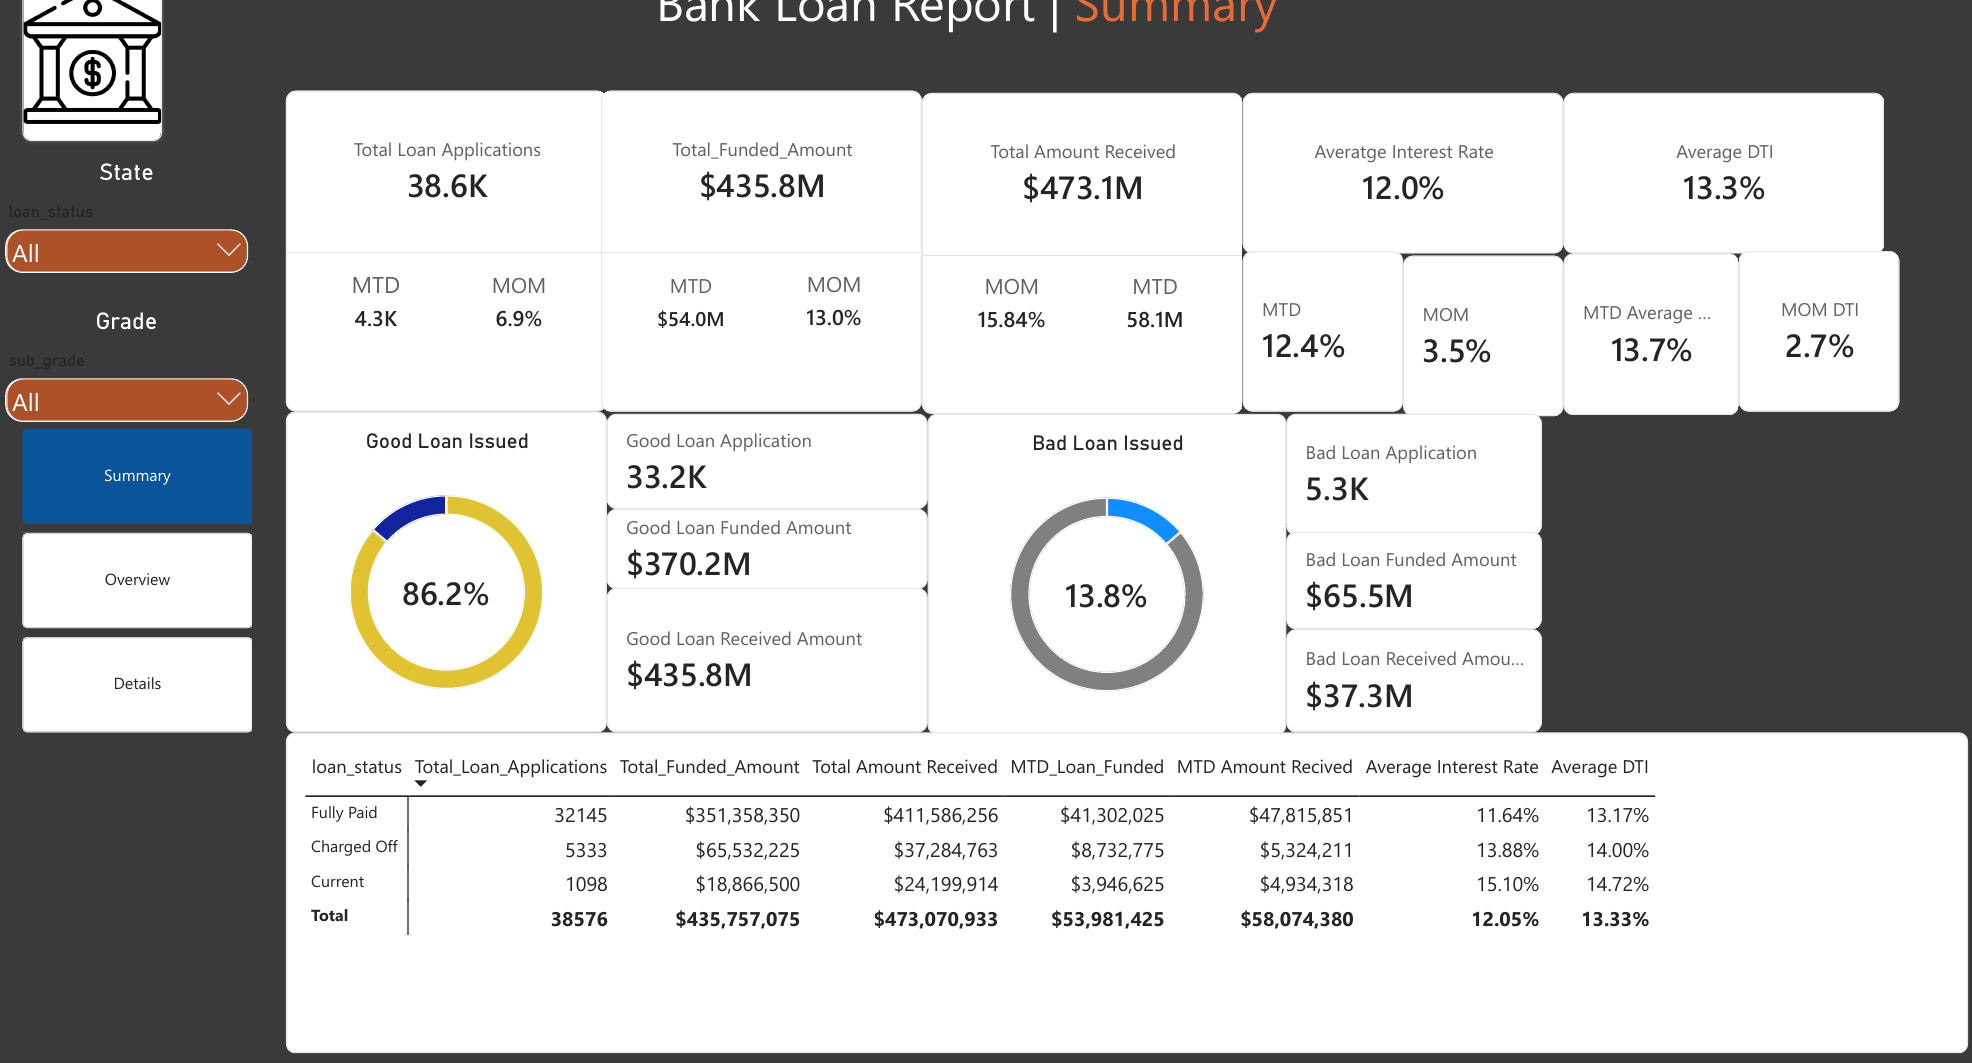

Layout of this report page (visuals, bound fields, positions):
{"tool":"powerbi","page":{"name":"Summary","canvas":[1920,1080],"ordinal":0},"visuals":[{"type":"cardVisual","fields":{"Data":["_measures.Total_Loan_Applications"]},"box":[250,118.3,280,280],"z":0},{"type":"cardVisual","fields":{"Data":["_measures.Total_Funded_Amount"]},"box":[525,118.3,280,280],"z":1000},{"type":"cardVisual","fields":{"Data":["_measures.Total Mount Recieved"]},"box":[805,120,280,280],"z":2000},{"type":"cardVisual","fields":{"Data":["_measures.Averatge INterest Rate"]},"box":[1085,120,280,140],"z":3000},{"type":"cardVisual","fields":{"Data":["_measures.MOM Interest Rate"]},"box":[1225,261.7,140,140],"z":4000},{"type":"cardVisual","fields":{"Data":["_measures.MTD Average Interest Rate"]},"box":[1085,258.3,140,140],"z":5000},{"type":"cardVisual","fields":{"Data":["_measures.Average DTI"]},"box":[1365,120,280,140],"z":6000},{"type":"cardVisual","fields":{"Data":["_measures.MTD Average DTI"]},"box":[1365,260,153.3,141.7],"z":7000},{"type":"cardVisual","fields":{"Data":["_measures.MOM DTI"]},"box":[1518.3,258.3,140,140],"z":8000},{"type":"donutChart","title":"Good Loan Issued","fields":{"Y":["_measures.Good Loan App %","_measures.Bad Loan %"]},"box":[250,398.3,280,280],"z":9000},{"type":"cardVisual","fields":{"Data":["_measures.Good Loan Application"]},"box":[530,400,280,83.3],"z":9001},{"type":"cardVisual","fields":{"Data":["_measures.Good Loan Funded Amount"]},"box":[530,483.3,280,70],"z":9002},{"type":"cardVisual","fields":{"Data":["_measures.Good Loan Received Amount"]},"box":[530,551.7,280,126.7],"z":9003},{"type":"donutChart","title":"Bad Loan Issued","fields":{"Y":["_measures.Bad Loan %","_measures.Good Loan App %"]},"box":[810,400,313.3,280],"z":9004},{"type":"cardVisual","fields":{"Data":["_measures.Bad Loan"]},"box":[1123.3,400,223.3,106.7],"z":9005},{"type":"cardVisual","fields":{"Data":["_measures.Bad Loan Funded Amount"]},"box":[1123.3,503.3,223.3,85],"z":9006},{"type":"cardVisual","fields":{"Data":["_measures.Bad Loan Received Amount"]},"box":[1123.3,588.3,223.3,90],"z":9007},{"type":"pivotTable","fields":{"Rows":["financial_loan.loan_status"],"Values":["_measures.Total_Loan_Applications","_measures.Total_Funded_Amount","_measures.Total Amount Recieved","_measures.MTD_Loan_Funded","_measures.MTD Amount Recived","_measures.Averatge INterest Rate","_measures.Average DTI"]},"box":[250,678.3,1468.3,280],"z":9008},{"type":"image","box":[20,11.7,121.7,150],"z":9009},{"type":"slicer","title":"State","fields":{"Values":["financial_loan.loan_status"]},"box":[0,176.7,221.7,105],"z":9010},{"type":"slicer","title":"Grade","fields":{"Values":["financial_loan.sub_grade"]},"box":[0,306.7,221.7,106.7],"z":9011},{"type":"textbox","box":[573.3,11.7,666.7,95],"z":9012},{"type":"pageNavigator","box":[20,413.3,201.7,266.7],"z":9013}]}

Visuals, with their boxes on the page's 1920x1080 design canvas (x1, y1, x2, y2). These are canvas units, not pixel positions in the 1972x1063 screenshot, which may show the page scaled, cropped or inside an application window:
cardVisual - _measures.Total_Loan_Applications: Rect(250, 118, 530, 398)
cardVisual - _measures.Total_Funded_Amount: Rect(525, 118, 805, 398)
cardVisual - _measures.Total Mount Recieved: Rect(805, 120, 1085, 400)
cardVisual - _measures.Averatge INterest Rate: Rect(1085, 120, 1365, 260)
cardVisual - _measures.MOM Interest Rate: Rect(1225, 262, 1365, 402)
cardVisual - _measures.MTD Average Interest Rate: Rect(1085, 258, 1225, 398)
cardVisual - _measures.Average DTI: Rect(1365, 120, 1645, 260)
cardVisual - _measures.MTD Average DTI: Rect(1365, 260, 1518, 402)
cardVisual - _measures.MOM DTI: Rect(1518, 258, 1658, 398)
"Good Loan Issued" donutChart: Rect(250, 398, 530, 678)
cardVisual - _measures.Good Loan Application: Rect(530, 400, 810, 483)
cardVisual - _measures.Good Loan Funded Amount: Rect(530, 483, 810, 553)
cardVisual - _measures.Good Loan Received Amount: Rect(530, 552, 810, 678)
"Bad Loan Issued" donutChart: Rect(810, 400, 1123, 680)
cardVisual - _measures.Bad Loan: Rect(1123, 400, 1347, 507)
cardVisual - _measures.Bad Loan Funded Amount: Rect(1123, 503, 1347, 588)
cardVisual - _measures.Bad Loan Received Amount: Rect(1123, 588, 1347, 678)
pivotTable - financial_loan.loan_status x _measures.Total_Loan_Applications: Rect(250, 678, 1718, 958)
image: Rect(20, 12, 142, 162)
"State" slicer: Rect(0, 177, 222, 282)
"Grade" slicer: Rect(0, 307, 222, 413)
textbox: Rect(573, 12, 1240, 107)
pageNavigator: Rect(20, 413, 222, 680)
